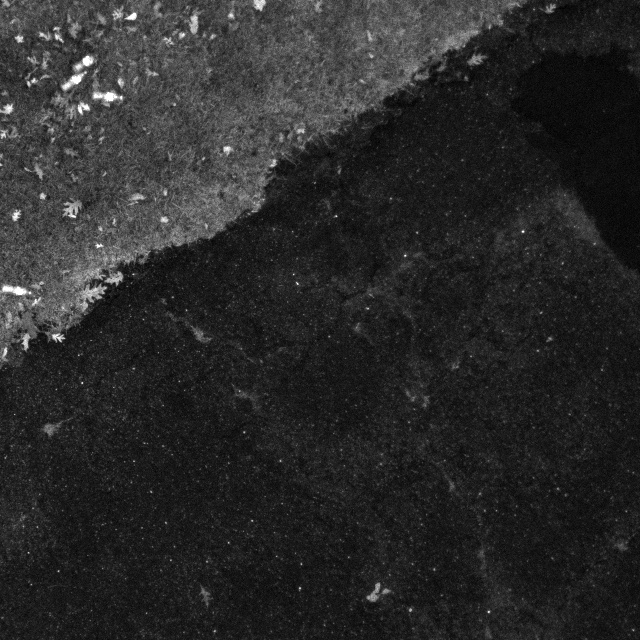bottle: (58, 66, 91, 95), (90, 83, 129, 105), (67, 50, 100, 75)
